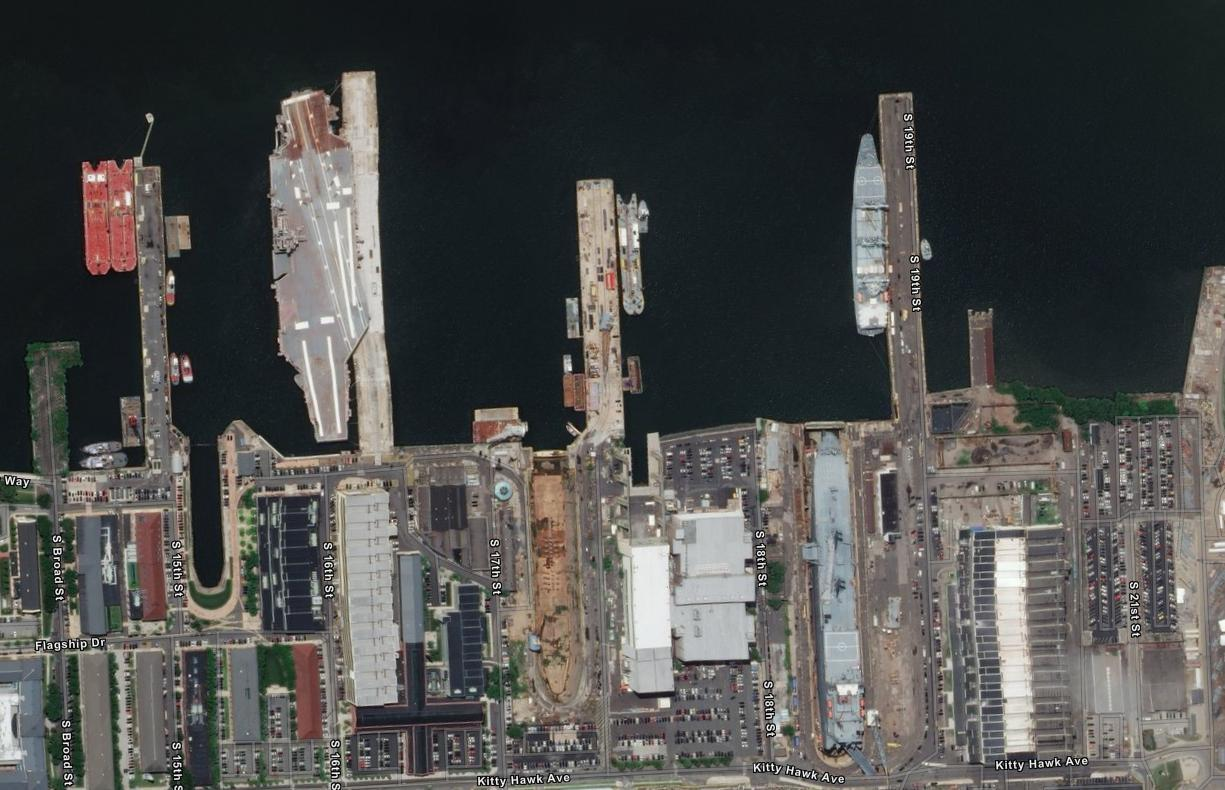carrier: (261, 82, 393, 450)
